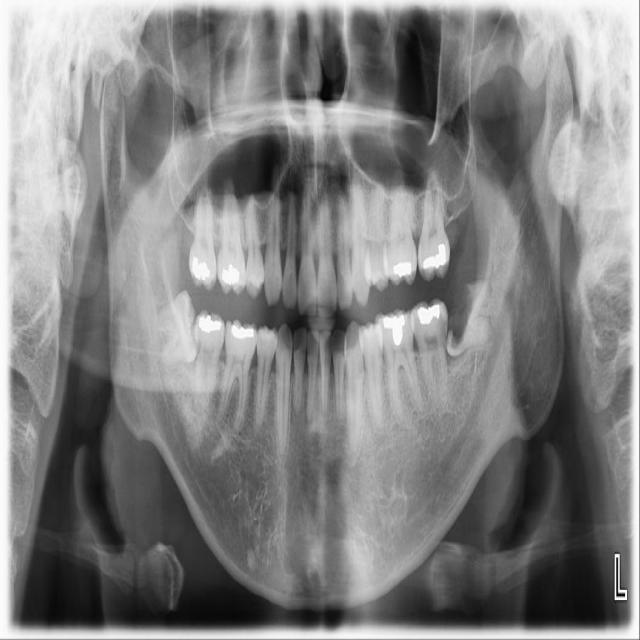Caries: (449, 286, 473, 342)
Filling: (383, 310, 406, 346), (422, 242, 447, 273), (220, 262, 244, 289), (191, 255, 214, 282), (415, 301, 439, 324), (197, 313, 222, 334), (391, 258, 413, 278), (230, 323, 256, 339)
impacted tooth: (447, 280, 517, 356), (152, 288, 198, 369)
